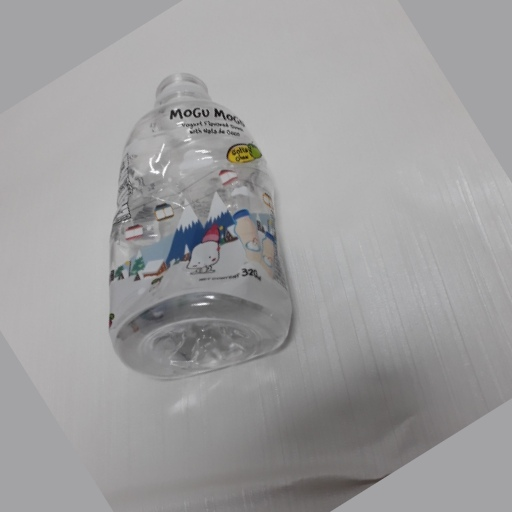Plastic_0: (103, 73, 293, 379)
